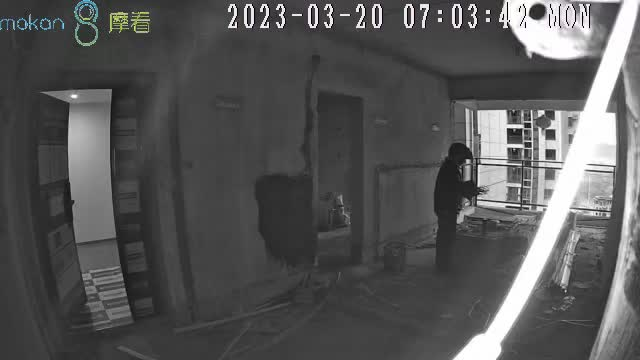people: (434, 143, 478, 269)
window: (480, 110, 614, 217)
